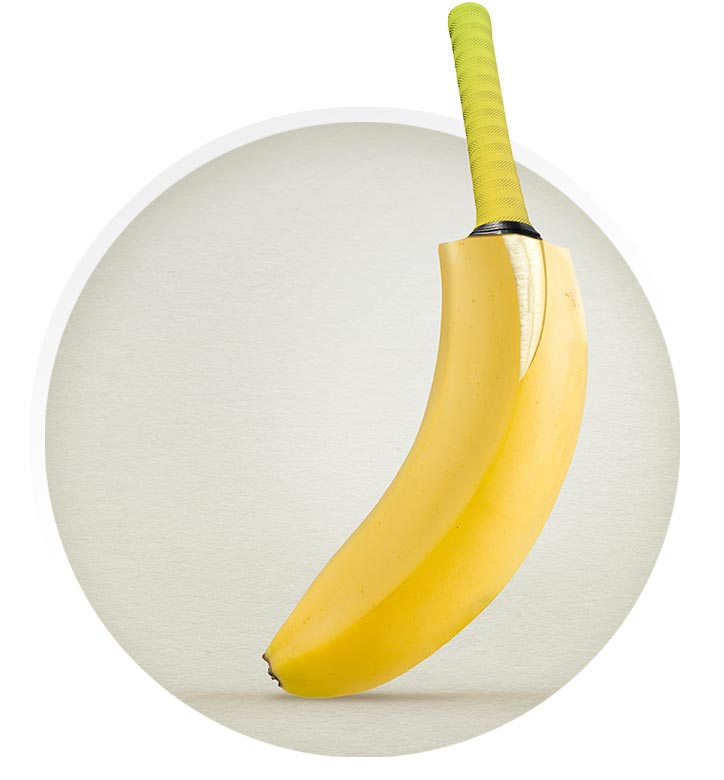banana: (254, 231, 617, 720)
